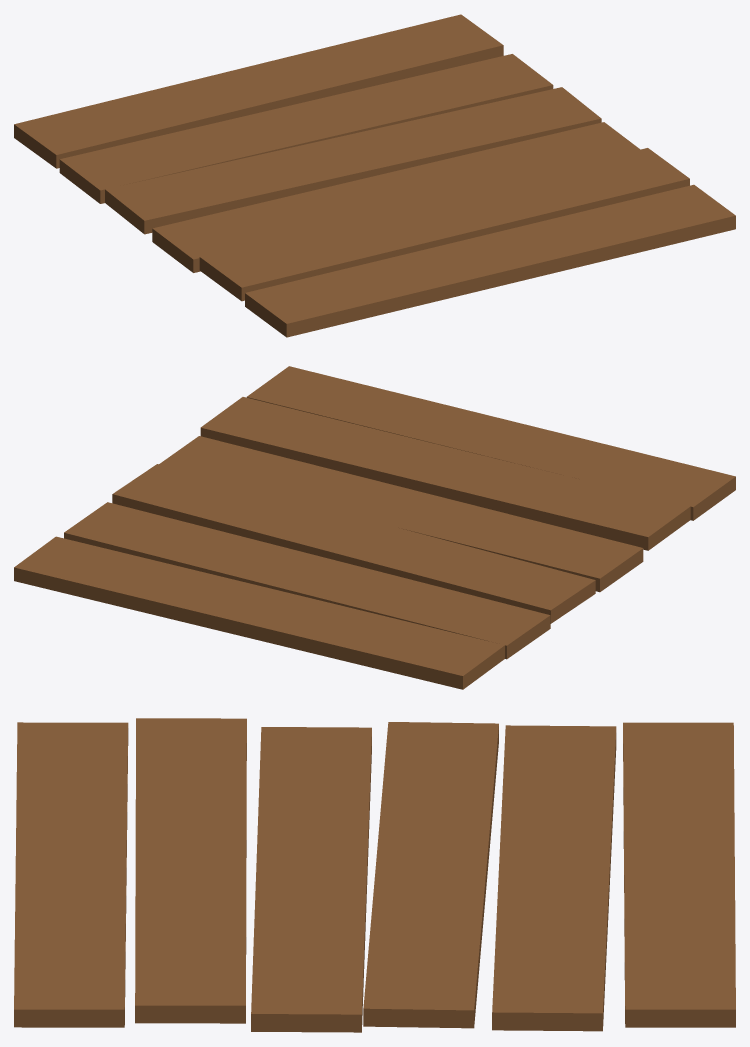
Rendered from jettiboard_03_a.fbx.
3 renders of one model, top to bottom at view 1: azimuth 30°, elevation 25°; view 2: azimuth 150°, elevation 25°; view 3: azimuth 270°, elevation 25°, orthographic. The views are drawn at different scales.
Parts seen in each view (by area): view 1: JettiBoard_03_a; view 2: JettiBoard_03_a; view 3: JettiBoard_03_a.
Boxes of the visible parts, box(x1,y1,x2,y2) form: JettiBoard_03_a: box(14, 14, 735, 337); JettiBoard_03_a: box(14, 366, 735, 689); JettiBoard_03_a: box(14, 718, 735, 1032).
Size of the model in its own units: 41.68 by 44.07 by 1.79.
